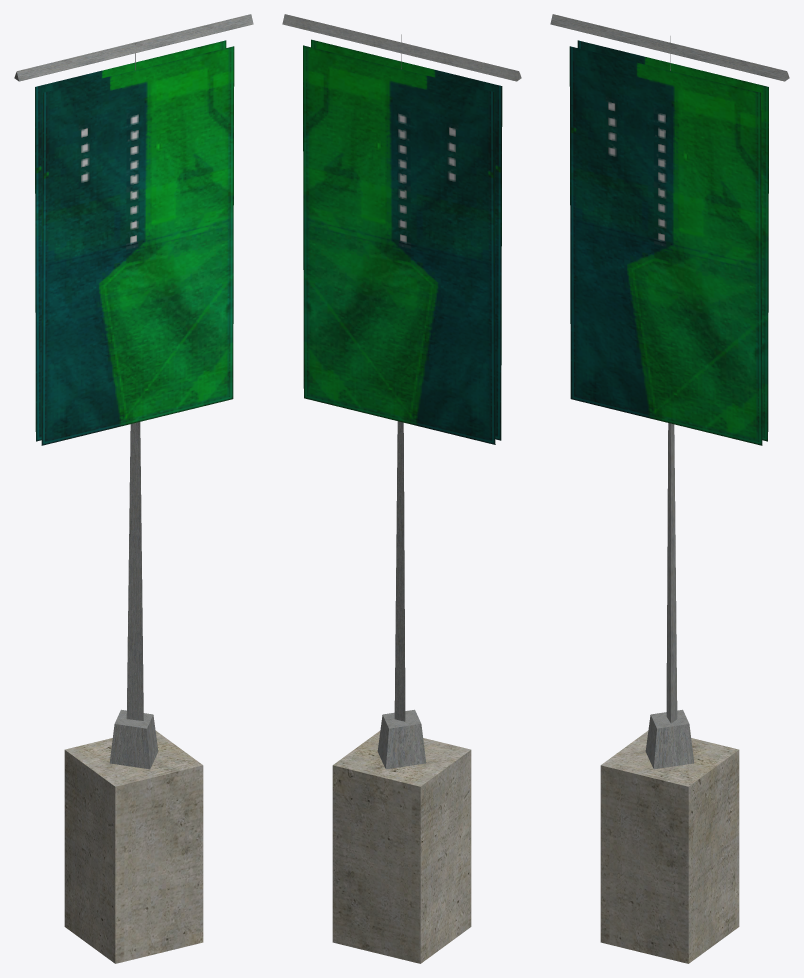
Rendered from thm_all_banner_generic_s01_l2.fbx.
The picture shows the model from 3 angles, left to right: view 1: azimuth 30°, elevation 25°; view 2: azimuth 150°, elevation 25°; view 3: azimuth 330°, elevation 25°; orthographic projection.
Visible parts, largest first — view 1: mesh_node; view 2: mesh_node; view 3: mesh_node.
Part boxes in pixels (<box>): mesh_node: <box>14,14,253,963</box>; mesh_node: <box>282,14,521,963</box>; mesh_node: <box>550,14,789,963</box>.
Bounding box in the file's own units: 2 × 7.37 × 0.75.
